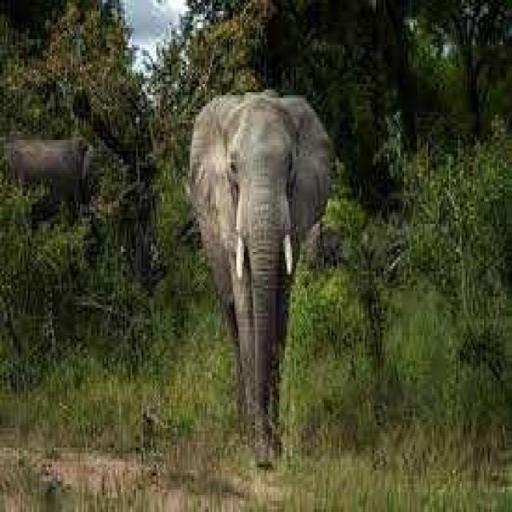Elephant: (184, 86, 338, 468)
